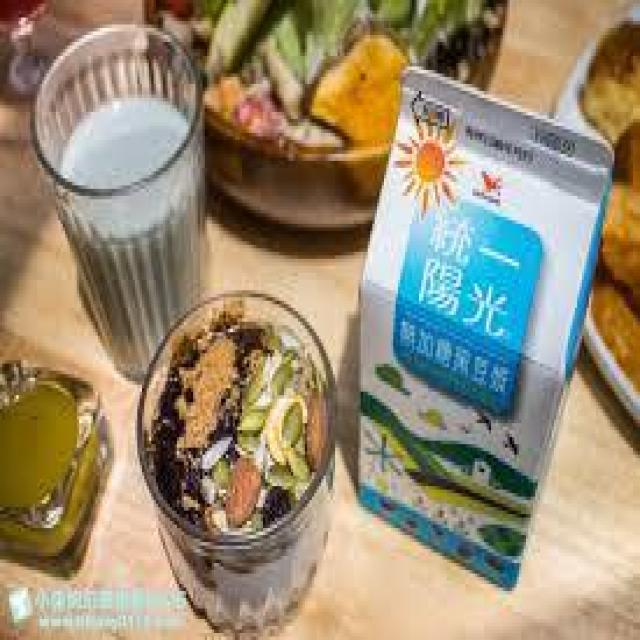TongYi_UnsweetenedBlackSoyMilk: (354, 70, 619, 596)
